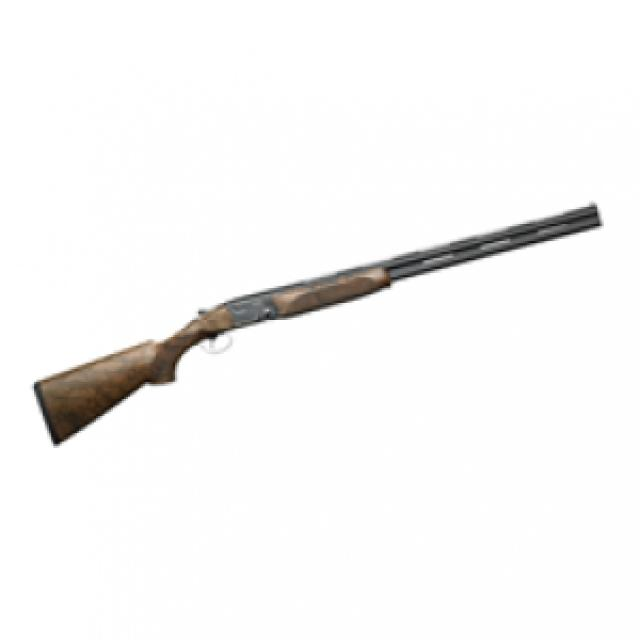rifle: (30, 200, 607, 451)
